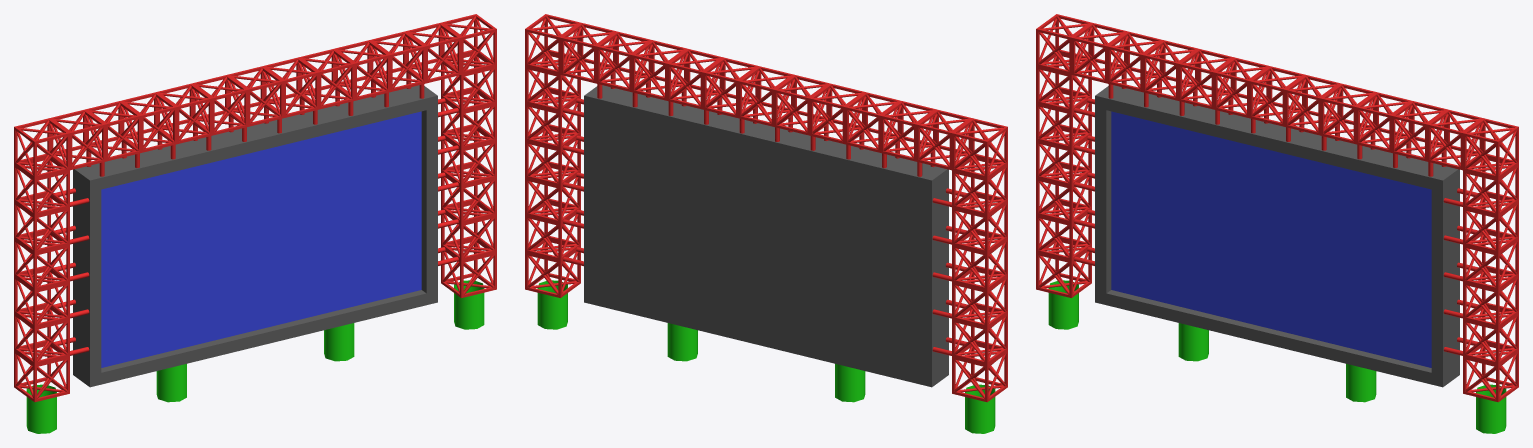
Rendered from TV_Stand_Mesh.fbx.
3 renders of one model, left to right at view 1: azimuth 30°, elevation 25°; view 2: azimuth 150°, elevation 25°; view 3: azimuth 330°, elevation 25°, orthographic.
Visible parts, largest first — view 1: TV_Stand; view 2: TV_Stand; view 3: TV_Stand.
Part boxes in pixels (<box>): TV_Stand: <box>14,14,496,433</box>; TV_Stand: <box>525,14,1007,433</box>; TV_Stand: <box>1036,14,1518,433</box>.
Size of the model in its own units: 212 by 2760 by 1697.
